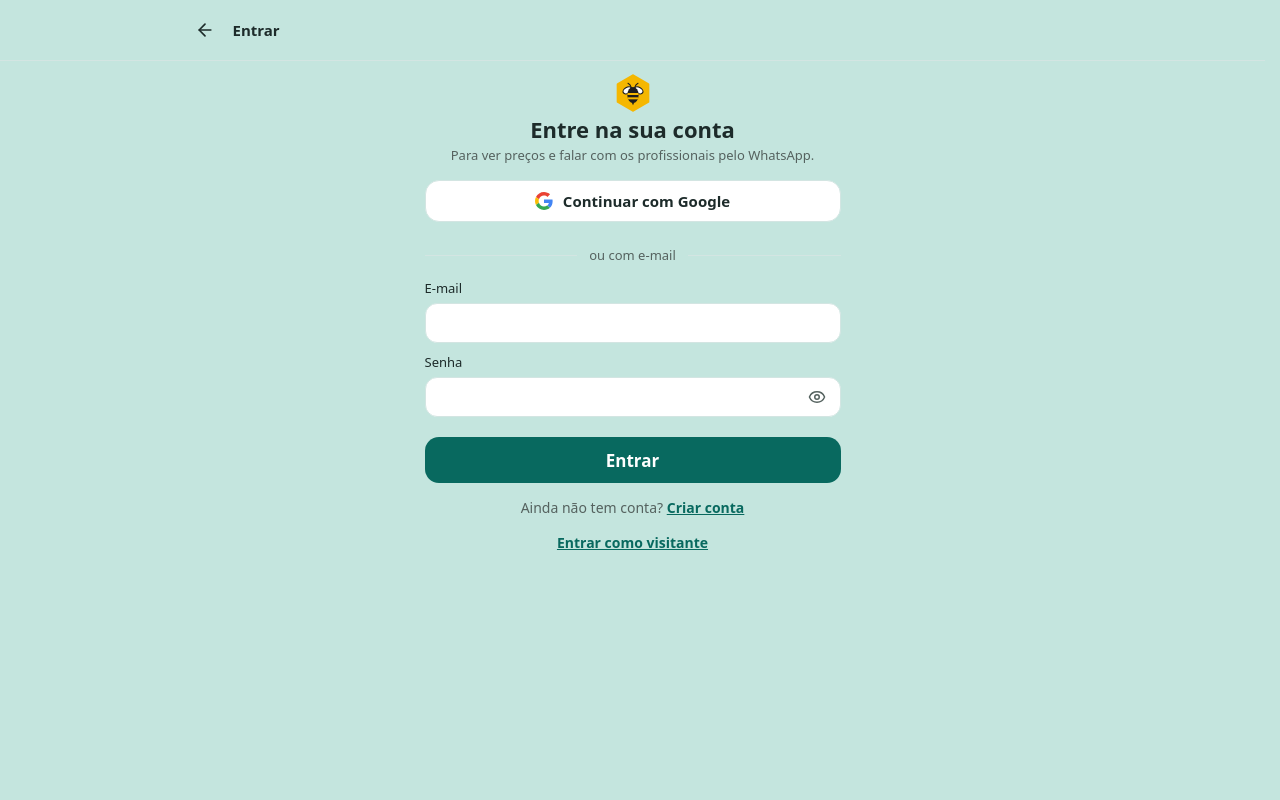
Test: Entrar: login real › avisa quando o servidor não responde
Type "carlos@exemplo.com" into the field labelled "E-mail" at {"x": 632, "y": 323}, box [424,303,840,343]
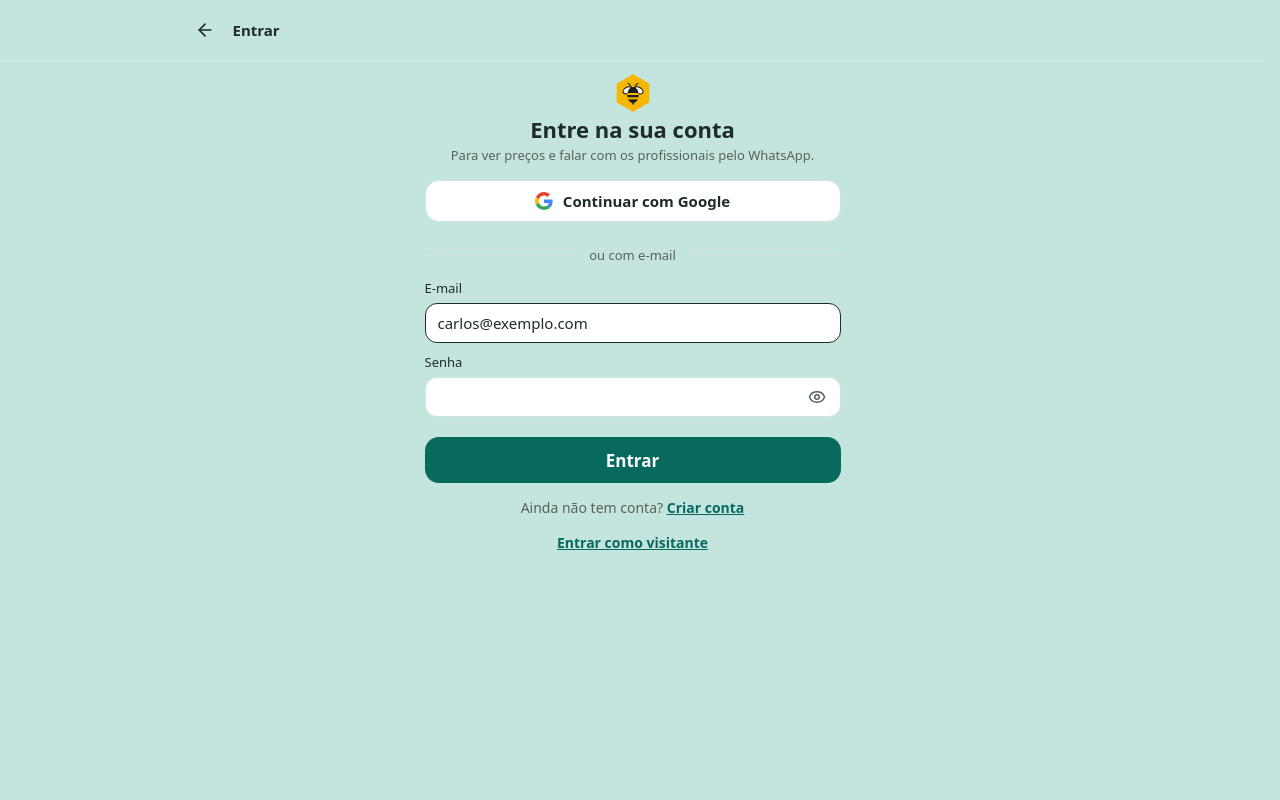
Type "teste123" into the password field labelled "Senha" at {"x": 632, "y": 397}, box [424,377,840,417]
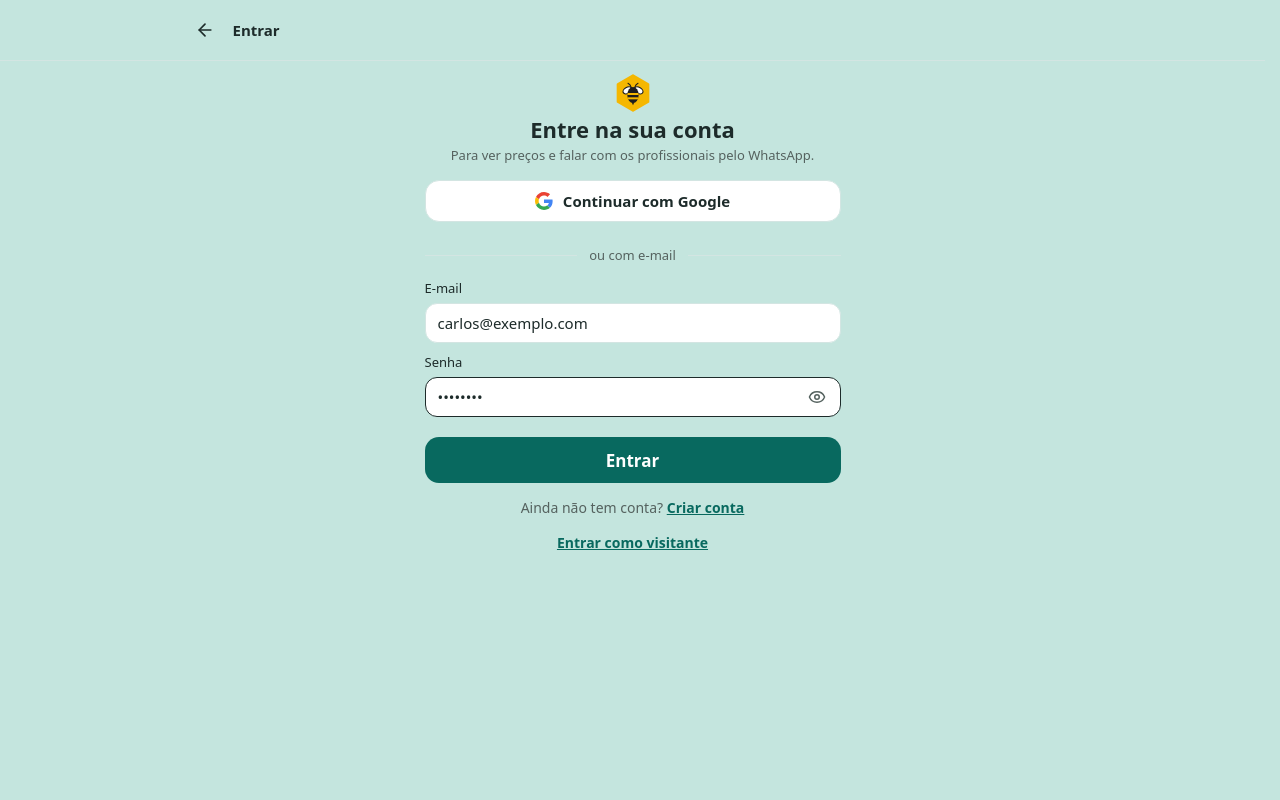
Click the button "Entrar" at {"x": 632, "y": 460}, box [424,437,840,483]
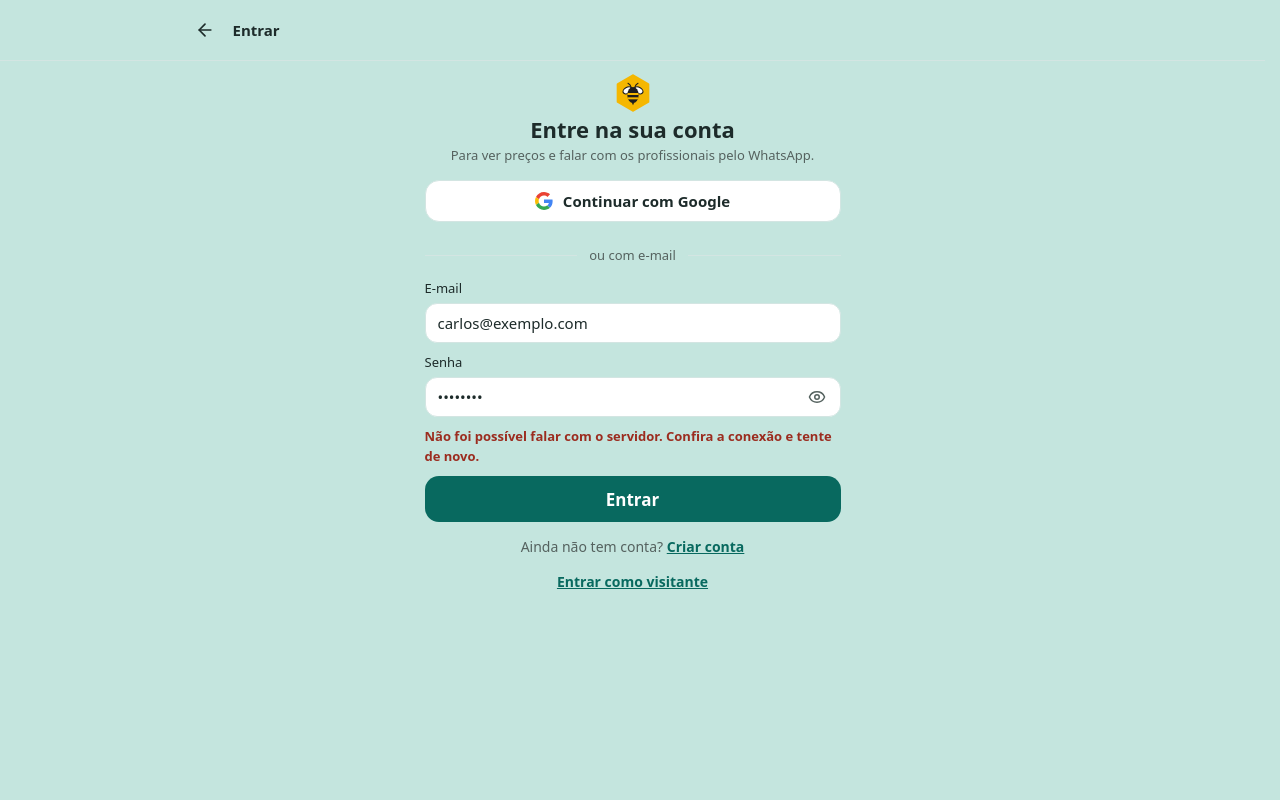
Expected: the button "Entrar" is enabled, [424,476,840,522]
Now the text "Não foi possível falar com o servidor" is shown, box [424,427,832,465]
